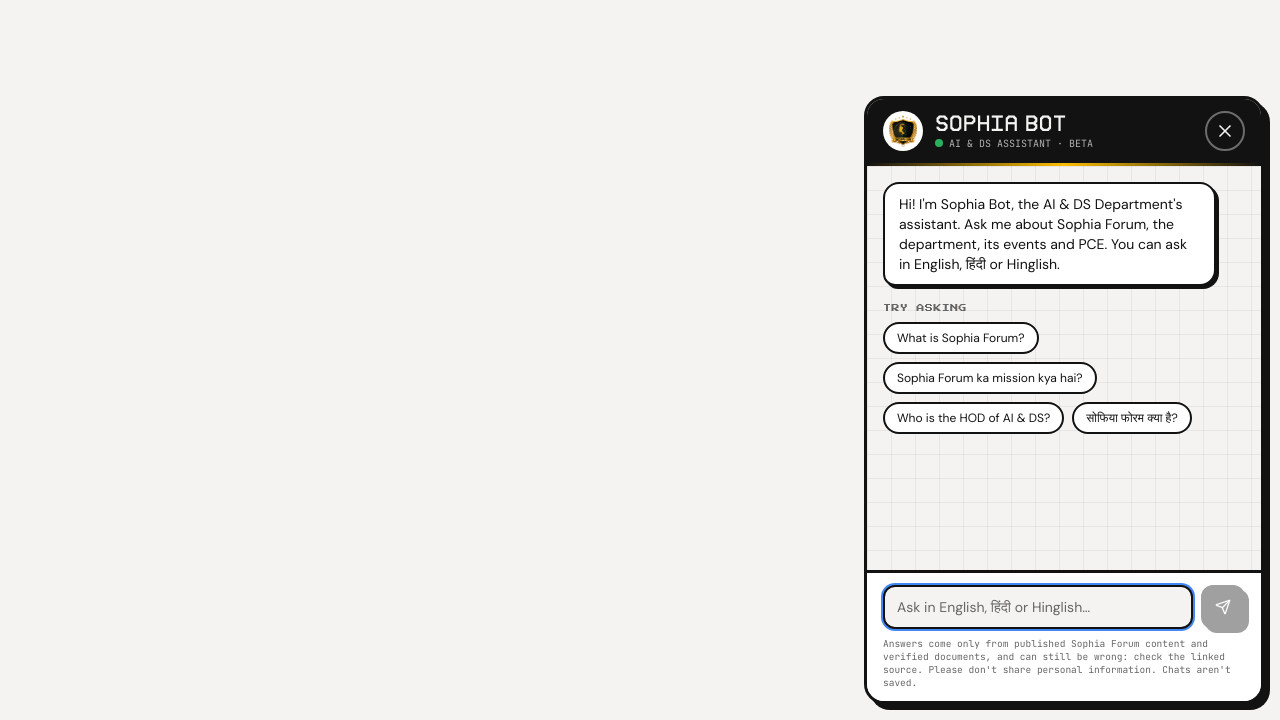
chat panel › asks a question, shows the answer with its source link, and hides the suggestions
The image size is (1280, 720).
In the text box named "Your question": (1038, 607) [883,585,1193,629], type "When is the hackathon?"
Then press Enter
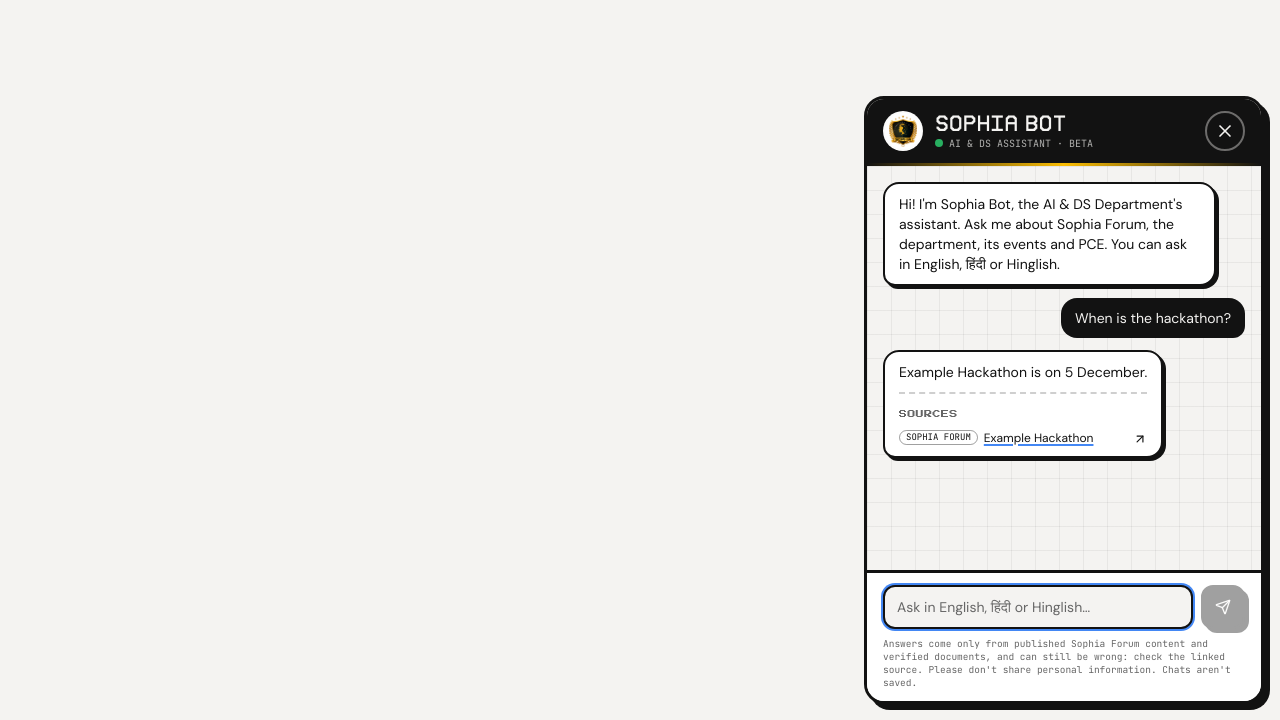
Check: the text "Example Hackathon is on 5 December." is shown, box [899,362,1147,382]
Check: the link "SOPHIA FORUM Example Hackathon" is shown, box [899,430,1147,446]
Check: the button "What is Sophia Forum?" is gone
